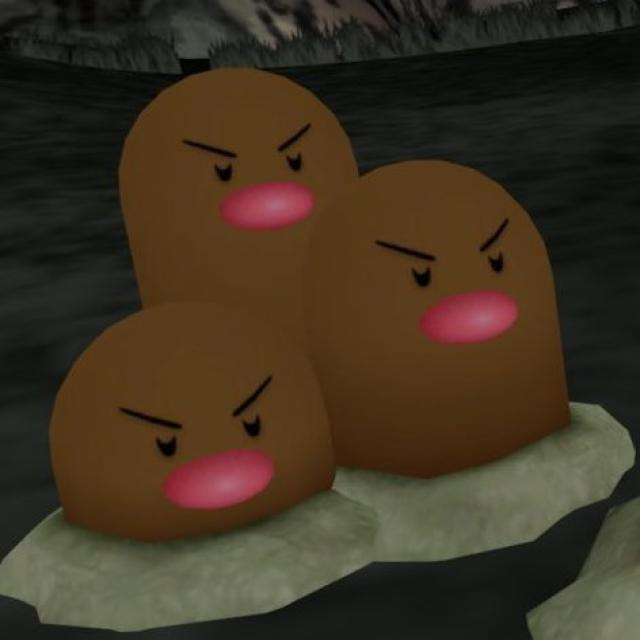Dugtrio: (41, 60, 574, 545)
